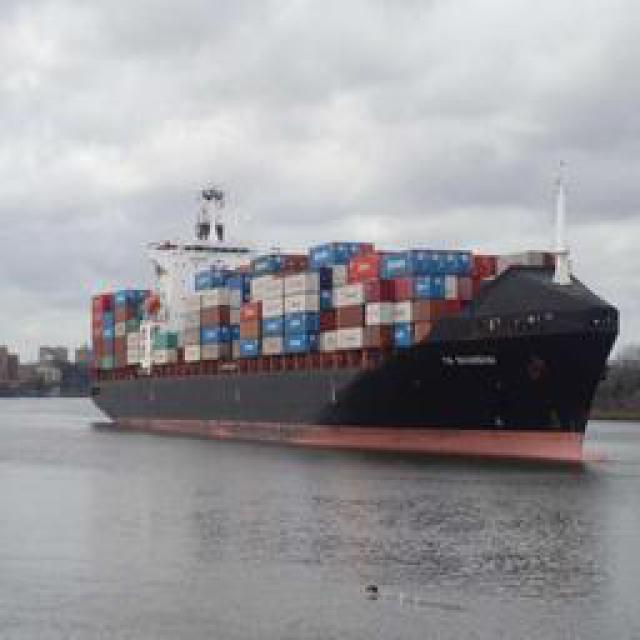Ship: (80, 195, 623, 450)
